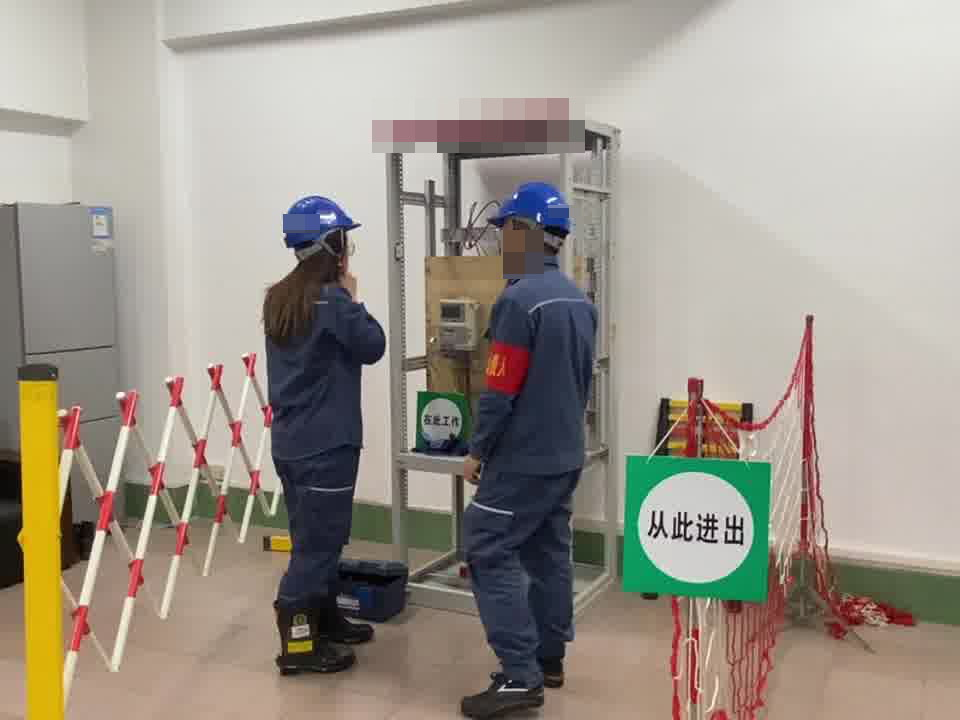badge: (484, 341, 533, 397)
downsuit: (462, 476, 579, 683), (269, 453, 362, 600)
hair: (263, 193, 360, 339)
halt: (487, 181, 573, 266)
hand: (463, 458, 488, 482), (341, 271, 358, 301)
inear: (511, 216, 539, 260)
intosign: (613, 448, 775, 613)
person: (443, 178, 601, 720), (252, 192, 391, 679)
shoe: (275, 593, 375, 677)
upsuit: (470, 261, 599, 473), (258, 279, 387, 449)
worksign: (413, 386, 471, 455)
